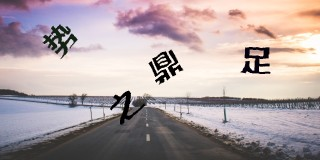之: (109, 90, 148, 124)
势: (43, 22, 78, 59)
足: (241, 44, 273, 76)
鼎: (146, 49, 183, 86)
